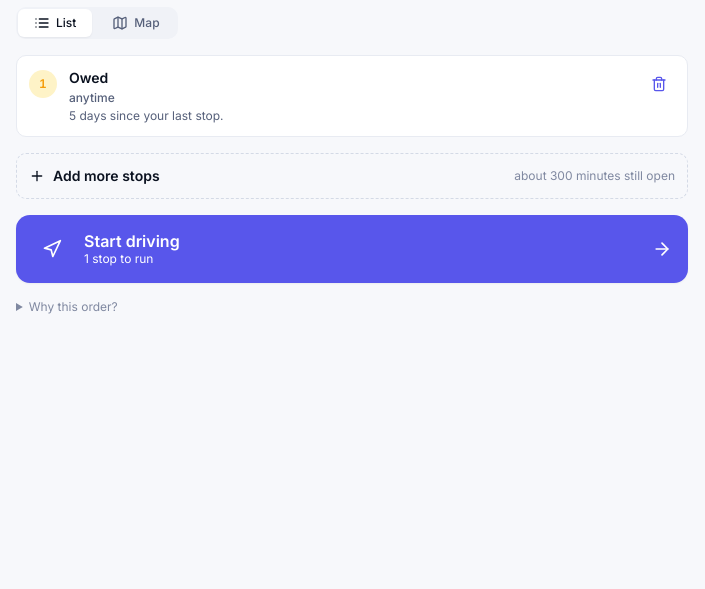
Test: TodaysPathView › pluralizes the fill-notice count from the number of stops the fill appended
Click the button "Add more stops about 300 minutes still open" at (106, 176), box [16,153,688,199]
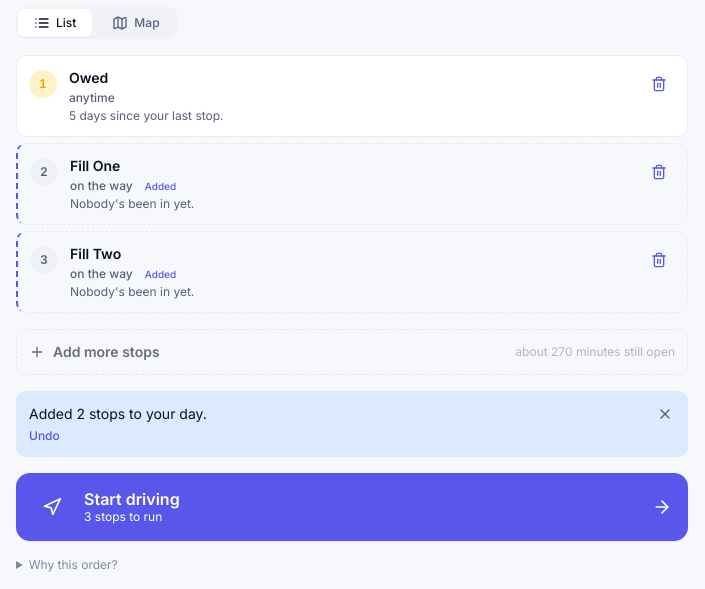
Expected: the text "Added 2 stops to your day." is shown, [29,405,207,422]
